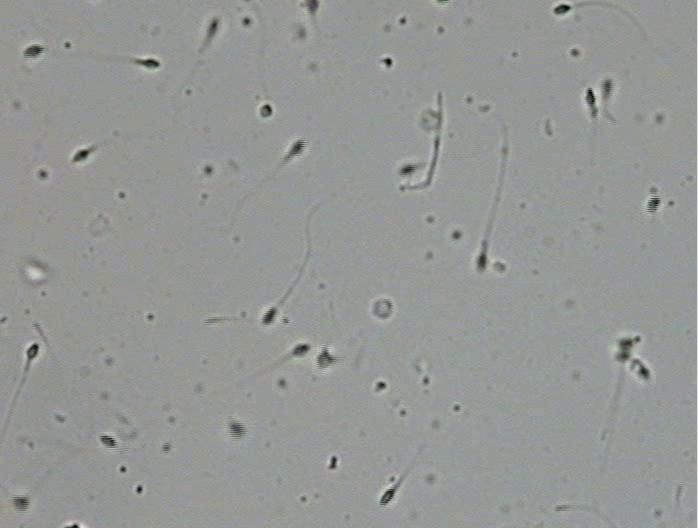Impurity: (371, 298, 393, 320)
S: (286, 138, 306, 161), (616, 337, 633, 363), (228, 420, 248, 441), (316, 349, 335, 368), (11, 495, 30, 513), (379, 488, 396, 506), (22, 45, 45, 58), (646, 195, 661, 214), (600, 77, 613, 98), (99, 433, 116, 449), (262, 307, 277, 325), (72, 149, 90, 163), (476, 252, 488, 272), (26, 343, 40, 360), (292, 343, 310, 356), (206, 19, 219, 36), (141, 58, 161, 69), (585, 87, 596, 107), (398, 164, 416, 176), (553, 4, 572, 15), (637, 364, 650, 380), (305, 1, 319, 15), (260, 103, 272, 118), (437, 1, 449, 6)
